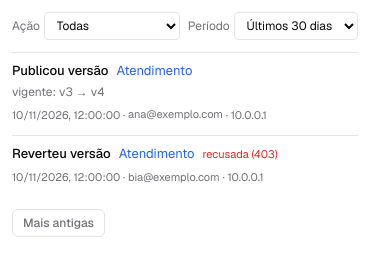
it: AuditLog › lista com o nome do config, a versão, a recusa e carrega as mais antigas
Expected: the text "Publicou versão" is shown, [12,61,108,80]
Expected: the text "vigente: v3 → v4" is shown, [12,84,105,100]
Click the button "Mais antigas" at [59, 223], box [12,209,105,237]
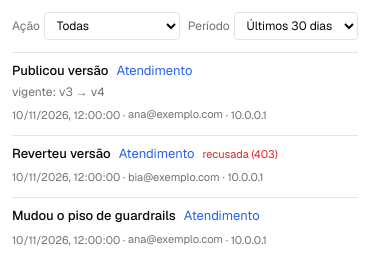
Now the text "Mudou o piso de guardrails" is shown, box [12,206,176,226]
